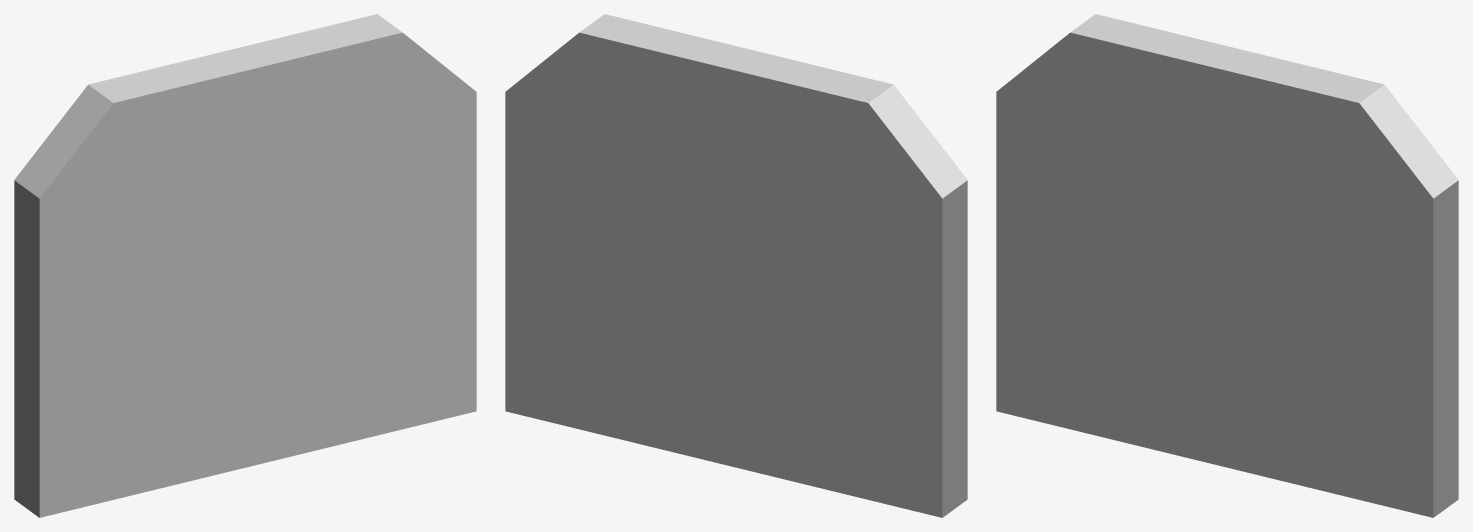
The model's file is Sign_A3.fbx.
3 views of the same model, side by side, from view 1: azimuth 30°, elevation 25°; view 2: azimuth 150°, elevation 25°; view 3: azimuth 330°, elevation 25° (orthographic).
Visible parts, largest first — view 1: Sign_A3; view 2: Sign_A3; view 3: Sign_A3.
Part boxes in pixels (x1,y1,x2,y2): Sign_A3: [14, 14, 476, 517]; Sign_A3: [505, 14, 967, 517]; Sign_A3: [996, 14, 1458, 517].
Bounding box in the file's own units: 166 × 144 × 16.66.
1 material, 1 textured.
